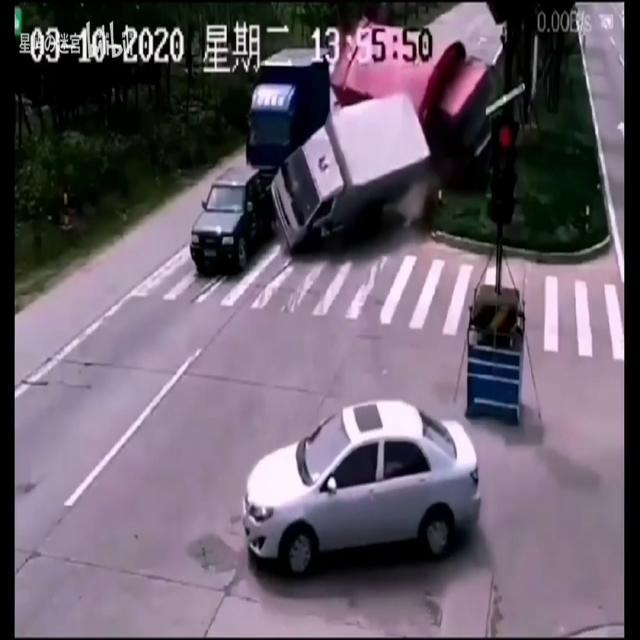accident: (267, 13, 488, 248)
non-accident: (190, 49, 332, 274)
